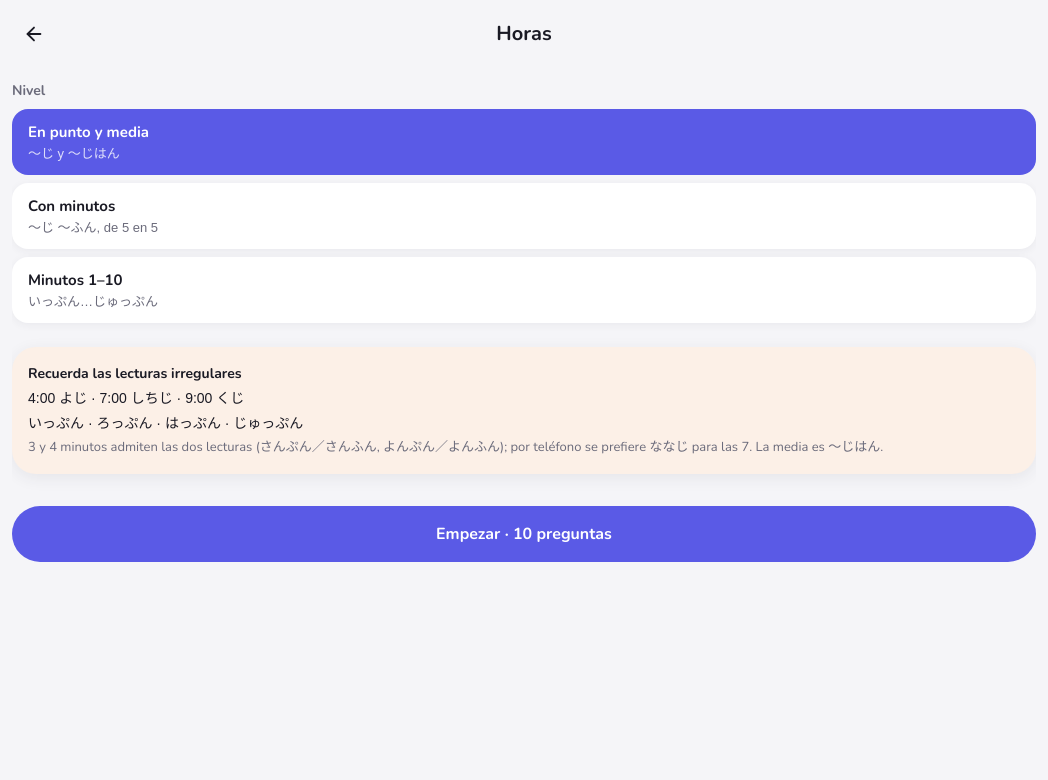
Scenario: HorasMode › setup lists the 3 levels and play shows a 4-option question
Click the button "Empezar · 10 preguntas": point(524, 534) [12, 506, 1036, 562]
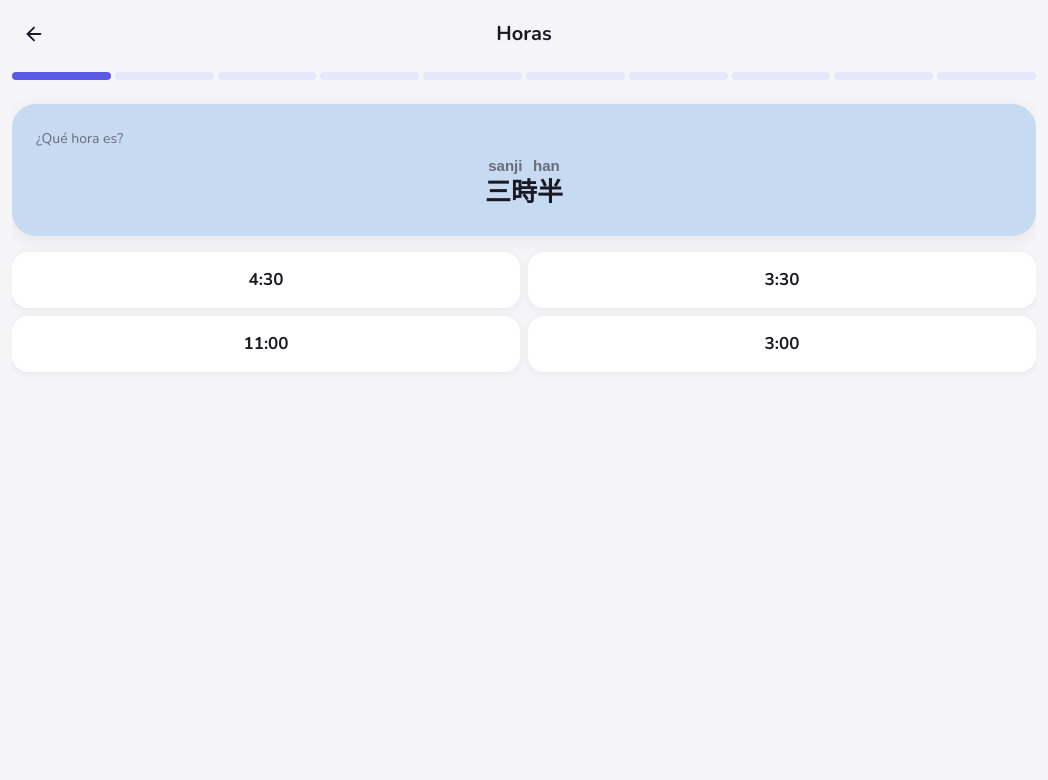
Now the text "¿Qué hora es?" is shown, box [36, 129, 123, 148]
